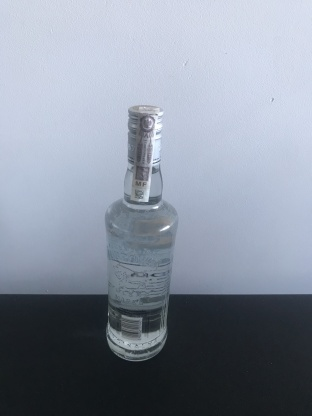nakretka: (124, 102, 165, 168), (131, 121, 146, 132)
